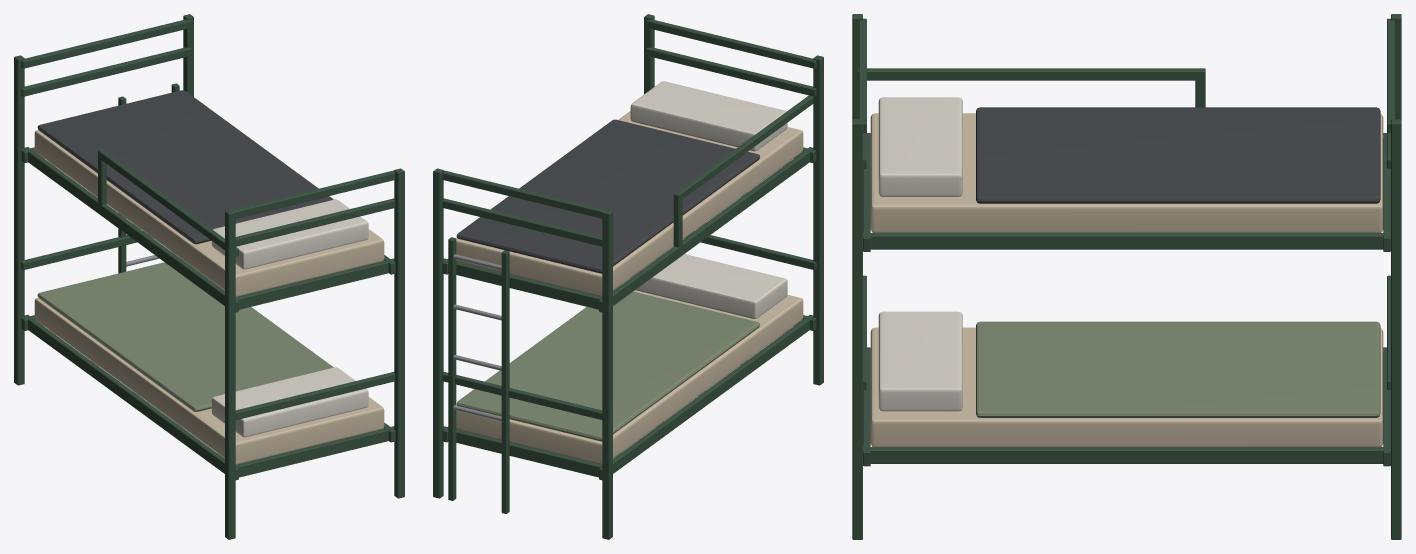
File: prop_sh_bunk_bed.glb
3 views of the same model, side by side, from view 1: azimuth 30°, elevation 25°; view 2: azimuth 150°, elevation 25°; view 3: azimuth 270°, elevation 25° (orthographic). The views are drawn at different scales.
Visible parts, largest first — view 1: Body; view 2: Body; view 3: Body.
Boxes of the visible parts, x1,y1,x2,y2 form: Body: [14, 14, 404, 539]; Body: [433, 14, 823, 539]; Body: [852, 14, 1401, 539].
Size of what is drawn, in the model's own units: 0.99 by 1.75 by 2.09.
